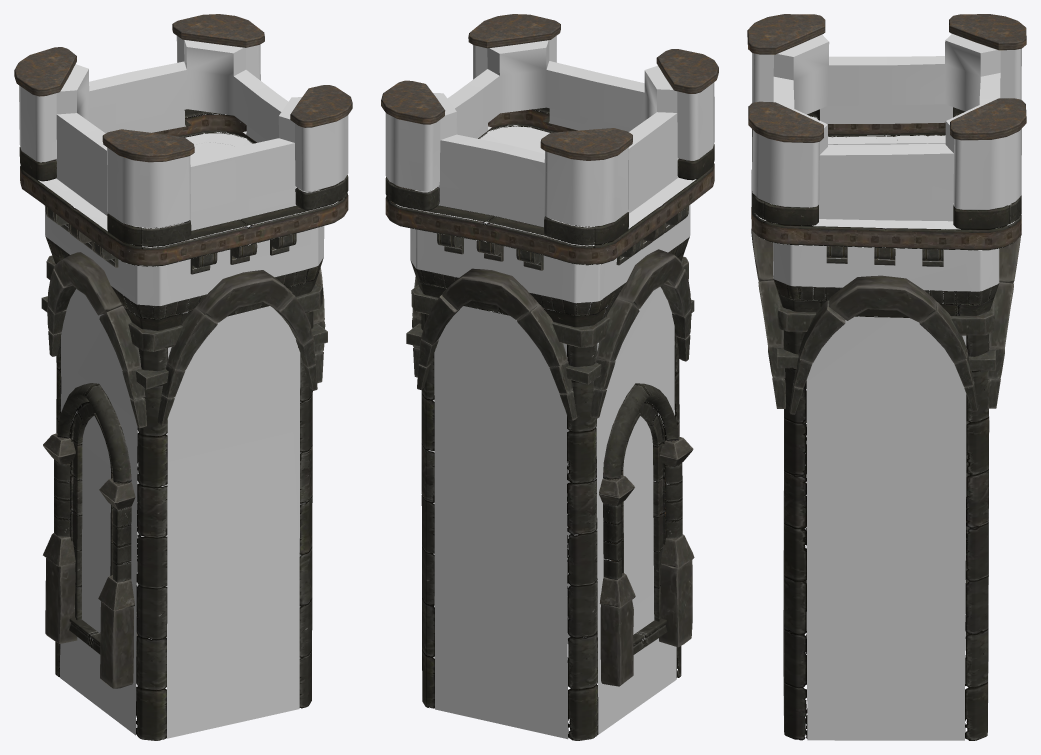
3 renders of one model, left to right at view 1: azimuth 30°, elevation 25°; view 2: azimuth 150°, elevation 25°; view 3: azimuth 270°, elevation 25°, orthographic. The views are drawn at different scales.
Visible parts, largest first — view 1: SM_DR_Gateway_Top_Tower_LOD0; view 2: SM_DR_Gateway_Top_Tower_LOD0; view 3: SM_DR_Gateway_Top_Tower_LOD0.
Boxes of the visible parts, box(x1,y1,x2,y2) form: SM_DR_Gateway_Top_Tower_LOD0: box(14, 14, 352, 740); SM_DR_Gateway_Top_Tower_LOD0: box(381, 14, 718, 740); SM_DR_Gateway_Top_Tower_LOD0: box(747, 14, 1026, 740).
Size of the model in its own units: 8.25 by 20.44 by 8.22.
4 materials, 3 textured.
